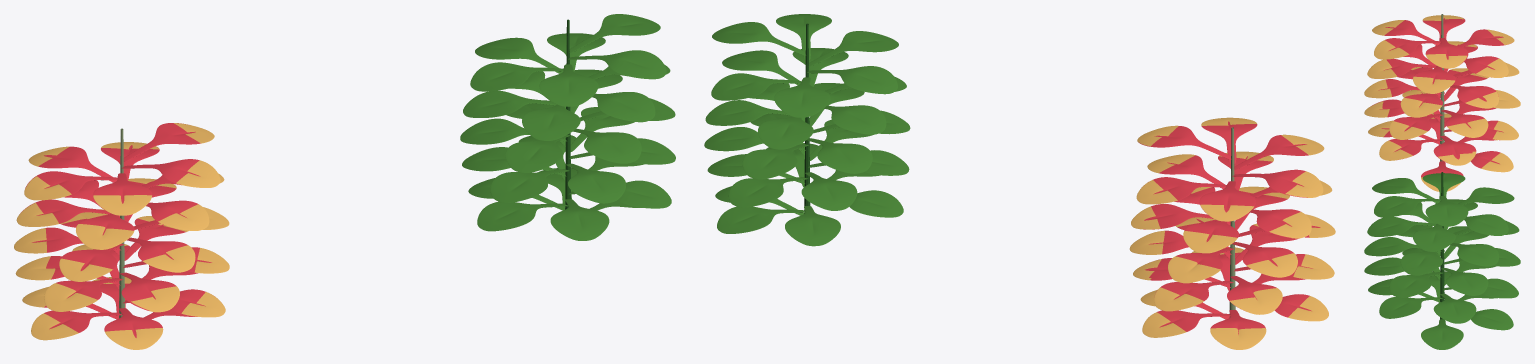
Rendered from plants.fbx.
The picture shows the model from 3 angles, left to right: view 1: azimuth 30°, elevation 25°; view 2: azimuth 150°, elevation 25°; view 3: azimuth 270°, elevation 25°; orthographic projection. The views are drawn at different scales.
Parts seen in each view (by area): view 1: plant1.002, plant1.001; view 2: plant1.002, plant1.001; view 3: plant1.001, plant1.002.
Part boxes in pixels (bbox=[...]): plant1.002: bbox=[14, 123, 229, 349]; plant1.001: bbox=[460, 14, 675, 240]; plant1.002: bbox=[1129, 117, 1335, 349]; plant1.001: bbox=[704, 14, 910, 246]; plant1.001: bbox=[1364, 172, 1520, 349]; plant1.002: bbox=[1364, 14, 1520, 191].
Size of the model in its own units: 3507 by 1074 by 1035.
